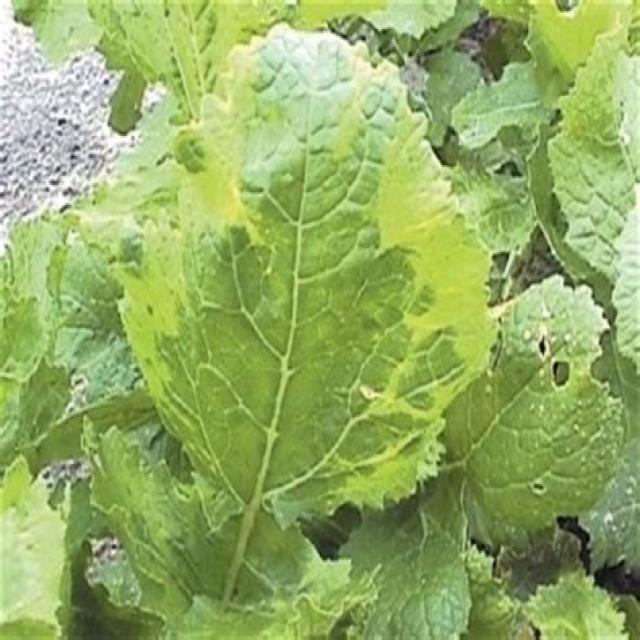Sick Lettuce: (0, 0, 639, 638), (109, 22, 497, 540), (444, 270, 628, 546)
